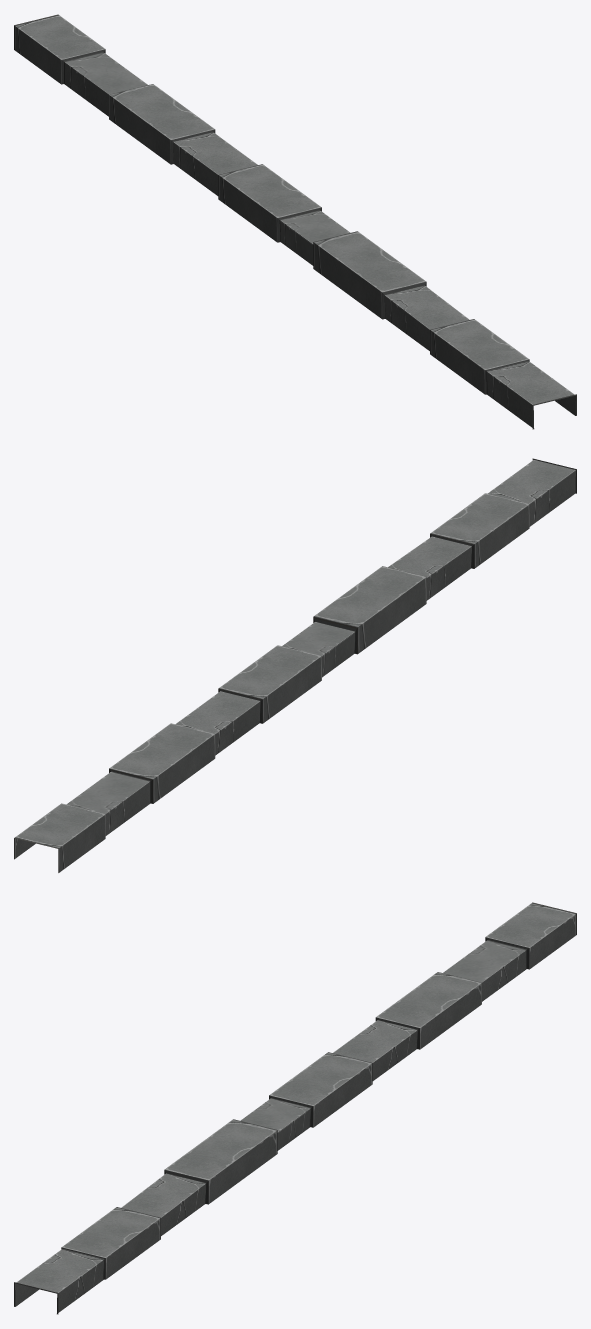
File: bg_block.FBX
3 views of the same model, one above another, from view 1: azimuth 30°, elevation 25°; view 2: azimuth 150°, elevation 25°; view 3: azimuth 330°, elevation 25° (orthographic).
Parts seen in each view (by area): view 1: bg_block; view 2: bg_block; view 3: bg_block.
Part boxes in pixels (x1,y1,x2,y2): bg_block: (14, 14, 576, 429); bg_block: (14, 458, 576, 872); bg_block: (14, 902, 576, 1314).
Size of the model in its own units: 2.99 by 1.74 by 60.74.
